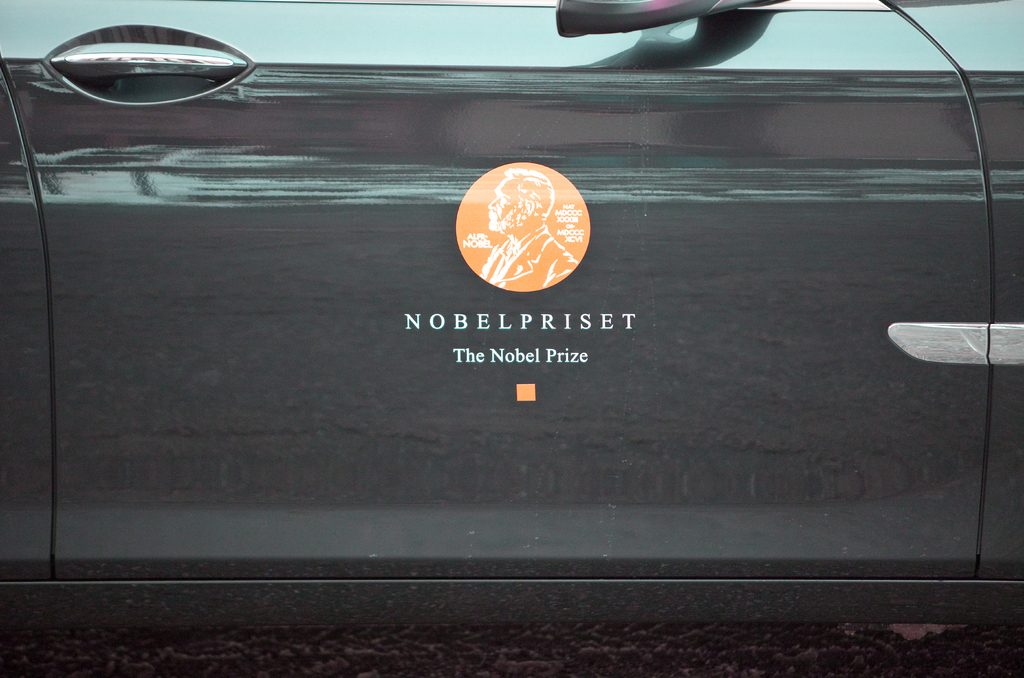Car: (0, 0, 1023, 626)
